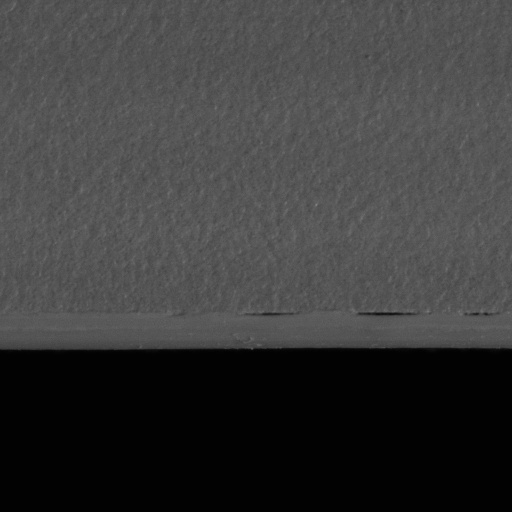jiaofeng: (348, 309, 423, 329)
